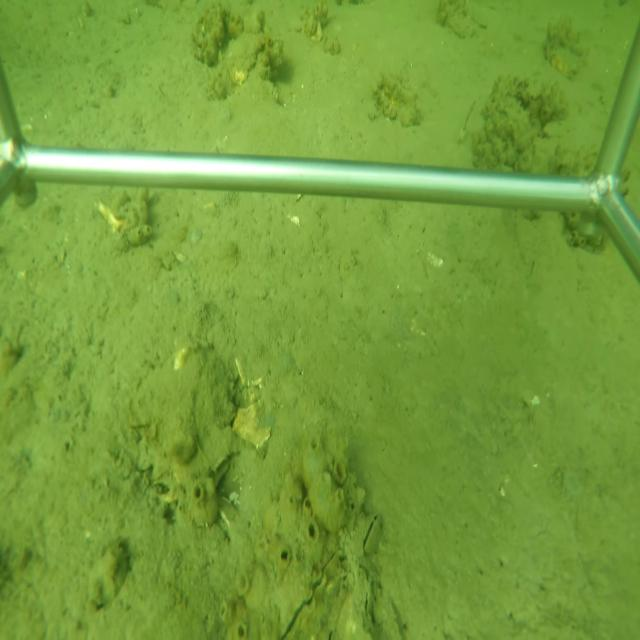Oyster-Closed: (278, 541, 341, 639)
